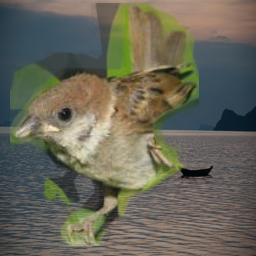Sparrow: (10, 3, 199, 246)
